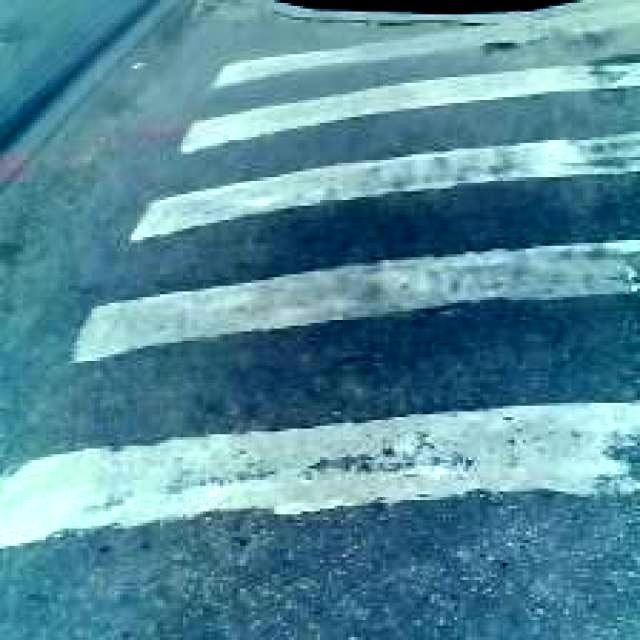crosswalk: (4, 2, 636, 639)
